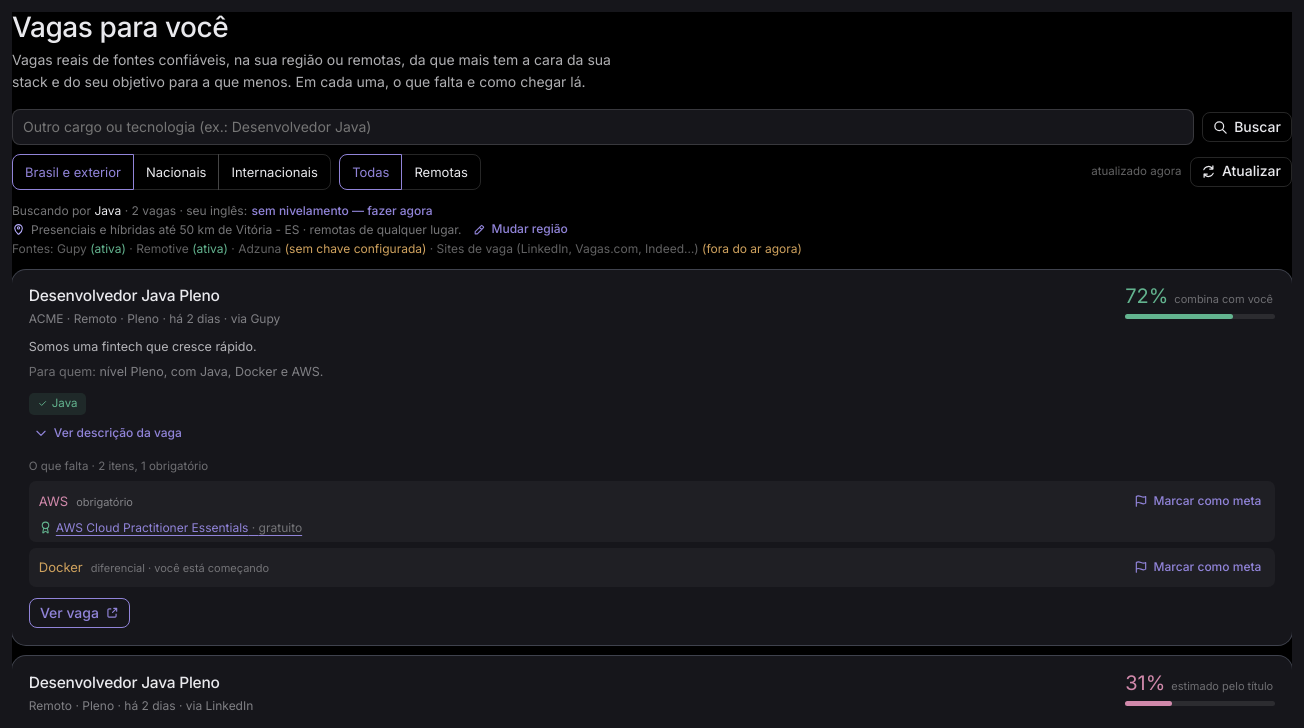
Test case: vagas › mostra o que é a vaga e abre a descrição sem ir ao servidor
Expected: the text "Somos uma fintech que cresce rápido." is shown, [29, 339, 257, 354]
Expected: the text "Para quem: nível Pleno, com Java, Docker e AWS." is shown, [29, 364, 323, 379]
Click the button "Ver descrição da vaga": (108,433) [29, 423, 187, 443]
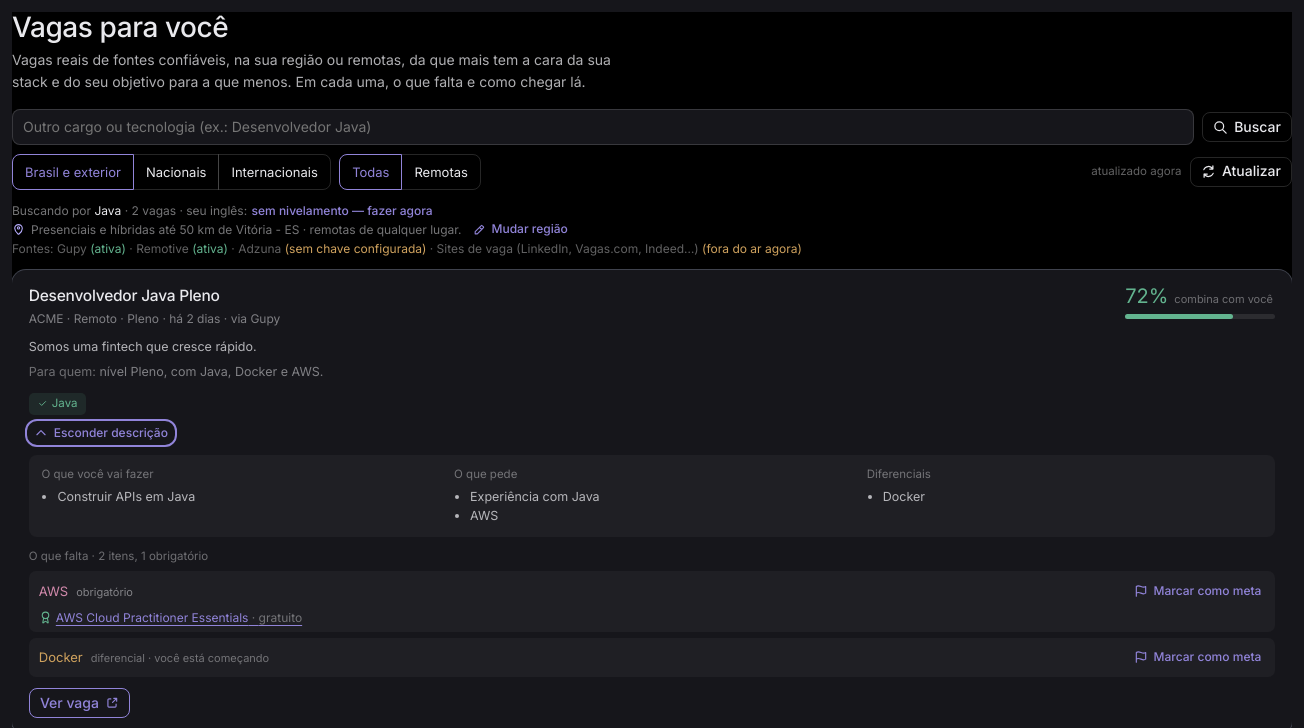
Now the list item "Construir APIs em Java" is shown, box [57, 489, 195, 504]
